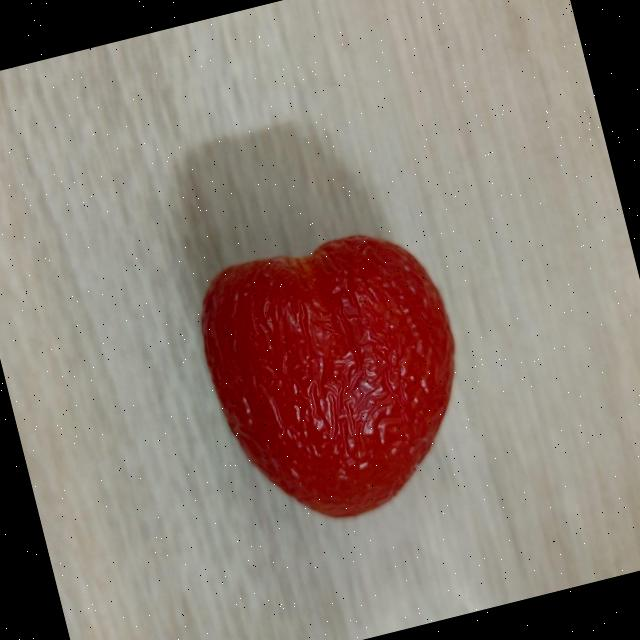overripe: (181, 208, 490, 540)
